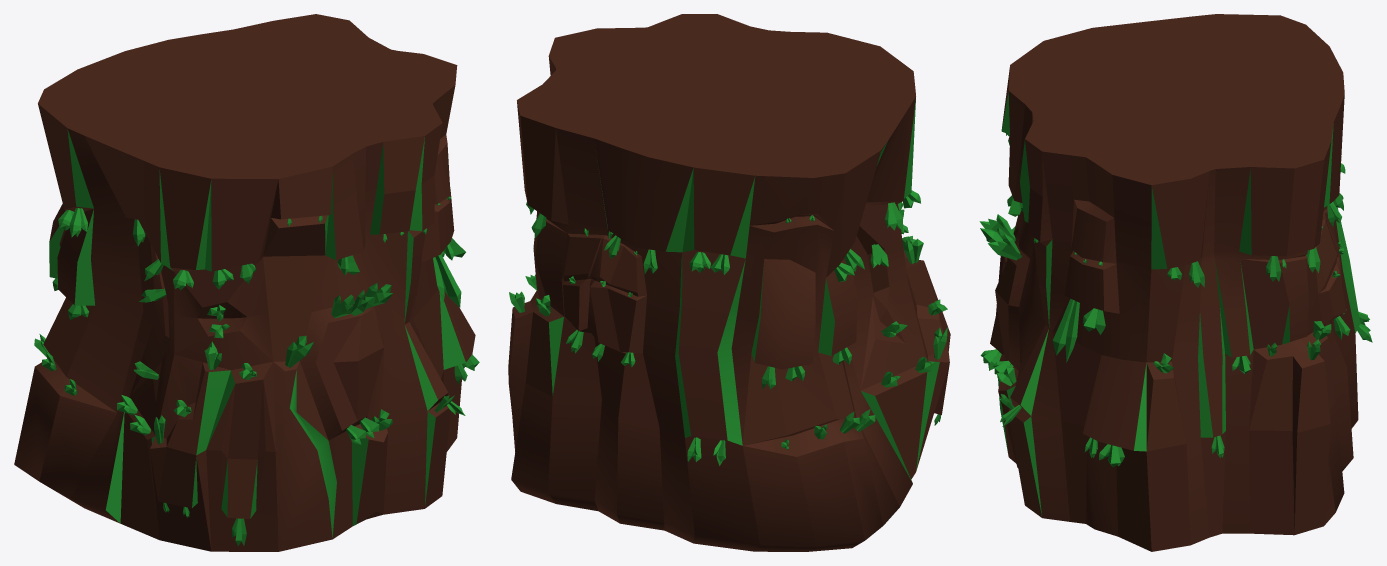
File: Emerald_8_2.fbx
3 views of the same model, side by side, from view 1: azimuth 30°, elevation 25°; view 2: azimuth 150°, elevation 25°; view 3: azimuth 270°, elevation 25° (orthographic). The views are drawn at different scales.
Visible parts, largest first — view 1: Rock_8_2.078, Rock_8_2.065; view 2: Rock_8_2.078; view 3: Rock_8_2.078, Rock_8_2.065, Rock_8_2.073.
Part boxes in pixels (x1,y1,x2,y2): Rock_8_2.078: (14, 14, 475, 551); Rock_8_2.065: (433, 254, 461, 307); Rock_8_2.078: (508, 14, 950, 551); Rock_8_2.078: (990, 14, 1360, 551); Rock_8_2.065: (1052, 298, 1079, 362); Rock_8_2.073: (988, 234, 1022, 260).
Size of the model in its own units: 1620 by 1501 by 1459.
